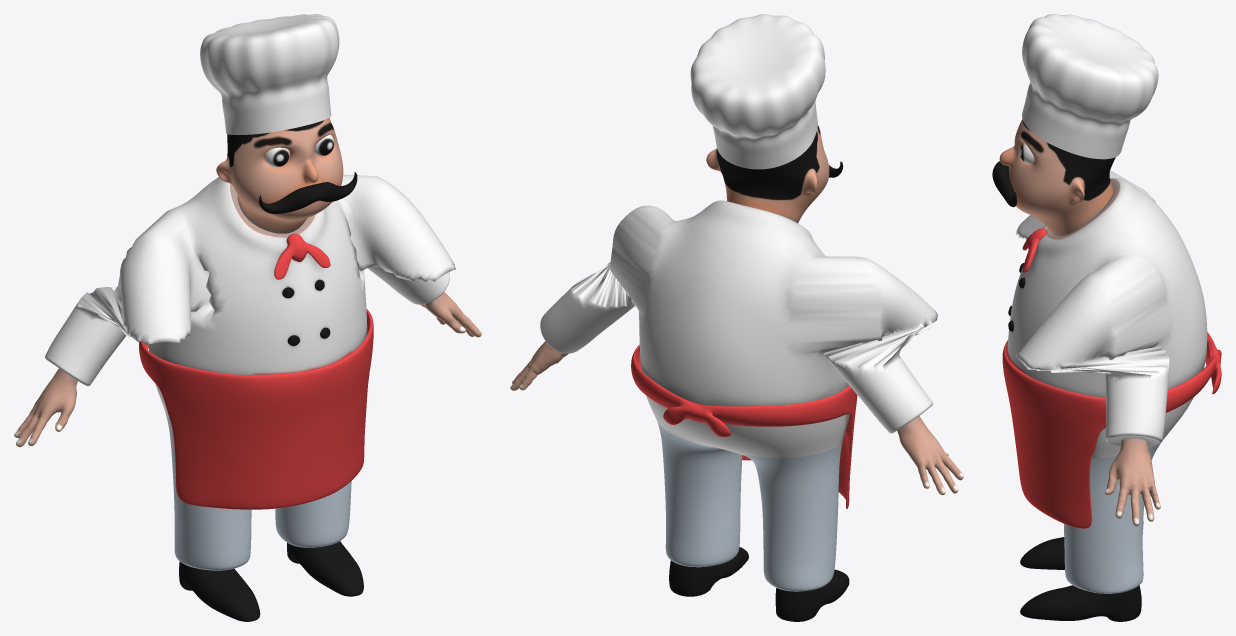
Rendered from chef.glb.
The picture shows the model from 3 angles, left to right: view 1: azimuth 30°, elevation 25°; view 2: azimuth 150°, elevation 25°; view 3: azimuth 270°, elevation 25°; orthographic projection. The views are drawn at different scales.
Visible parts, largest first — view 1: Chef_v001; view 2: Chef_v001; view 3: Chef_v001.
Part boxes in pixels (x1,y1,x2,y2): Chef_v001: (14,14,481,621); Chef_v001: (510,14,963,621); Chef_v001: (992,14,1221,621).
Size of the model in its own units: 0.7257 by 0.867 by 0.3196.
1 material, 1 textured.
